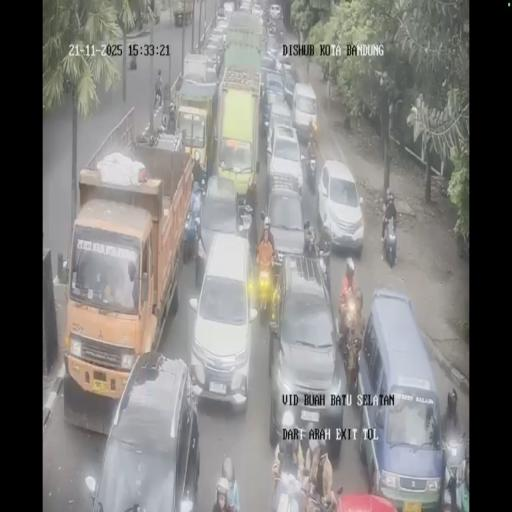car: (357, 290, 443, 504), (90, 351, 200, 508), (267, 256, 345, 452), (196, 174, 244, 284), (318, 160, 364, 255), (264, 186, 306, 270), (266, 119, 304, 195), (262, 69, 286, 131), (282, 62, 300, 108), (203, 42, 224, 76), (260, 51, 278, 71), (215, 4, 229, 24), (269, 4, 282, 19), (240, 0, 254, 12), (252, 3, 263, 17)
motorcycle: (255, 254, 279, 322), (182, 197, 198, 265), (381, 208, 398, 267), (236, 201, 254, 248), (317, 236, 332, 286), (305, 148, 318, 190), (303, 222, 317, 257), (306, 122, 319, 149), (267, 18, 277, 35)
truck: (173, 72, 217, 182), (221, 9, 263, 78)
